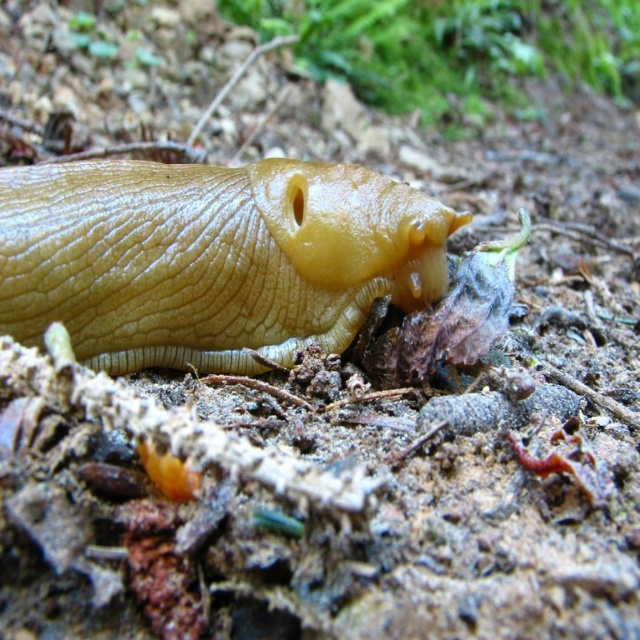Snail: (0, 158, 473, 375)
